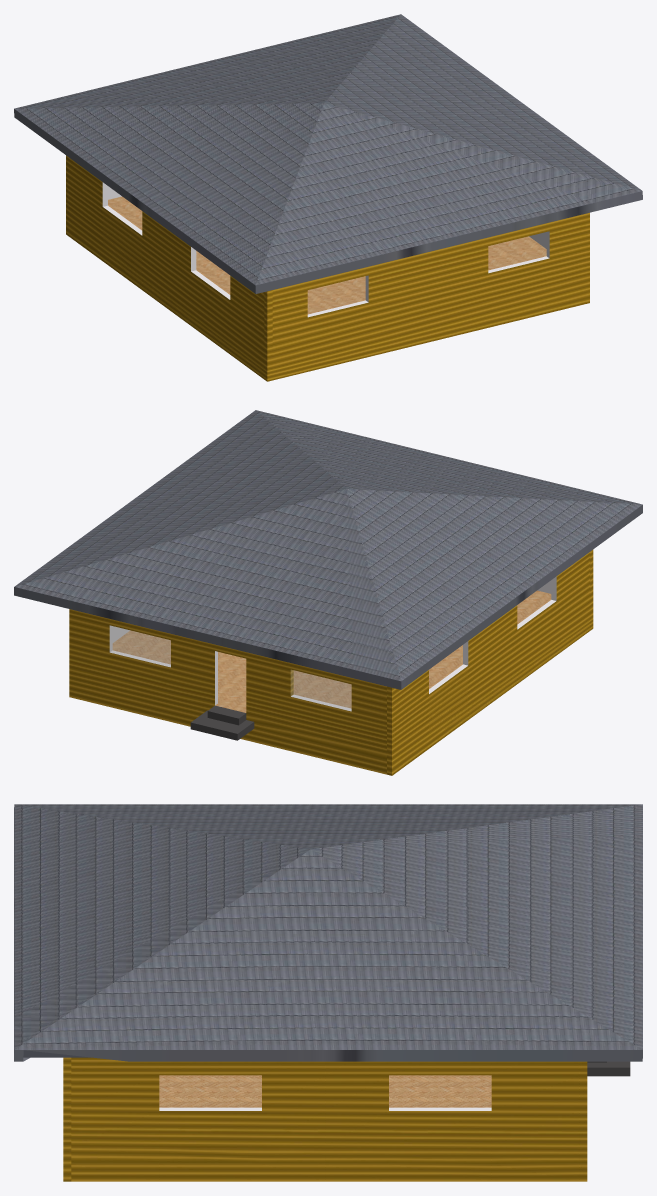
The model's file is house.fbx.
3 renders of one model, top to bottom at view 1: azimuth 30°, elevation 25°; view 2: azimuth 150°, elevation 25°; view 3: azimuth 270°, elevation 25°, orthographic. The views are drawn at different scales.
Visible parts, largest first — view 1: roof, window, floor, inside_walls; view 2: roof, window, floor, outer wall.001, inside_walls, walkway; view 3: roof, window, floor, inside_walls, walkway.
Part boxes in pixels (x1,y1,x2,y2): roof: [14, 14, 642, 293]; window: [66, 155, 589, 381]; floor: [108, 196, 546, 314]; inside_walls: [102, 182, 549, 317]; roof: [14, 410, 642, 689]; window: [69, 550, 593, 775]; floor: [112, 590, 551, 712]; outer wall.001: [110, 625, 351, 710]; inside_walls: [109, 576, 556, 711]; walkway: [190, 705, 254, 740]; roof: [14, 804, 642, 1061]; window: [63, 1057, 587, 1181]; floor: [159, 1075, 491, 1107]; inside_walls: [159, 1107, 491, 1110]; walkway: [587, 1061, 630, 1076].
Bounding box in the file's own units: 1489 × 632 × 1609.
